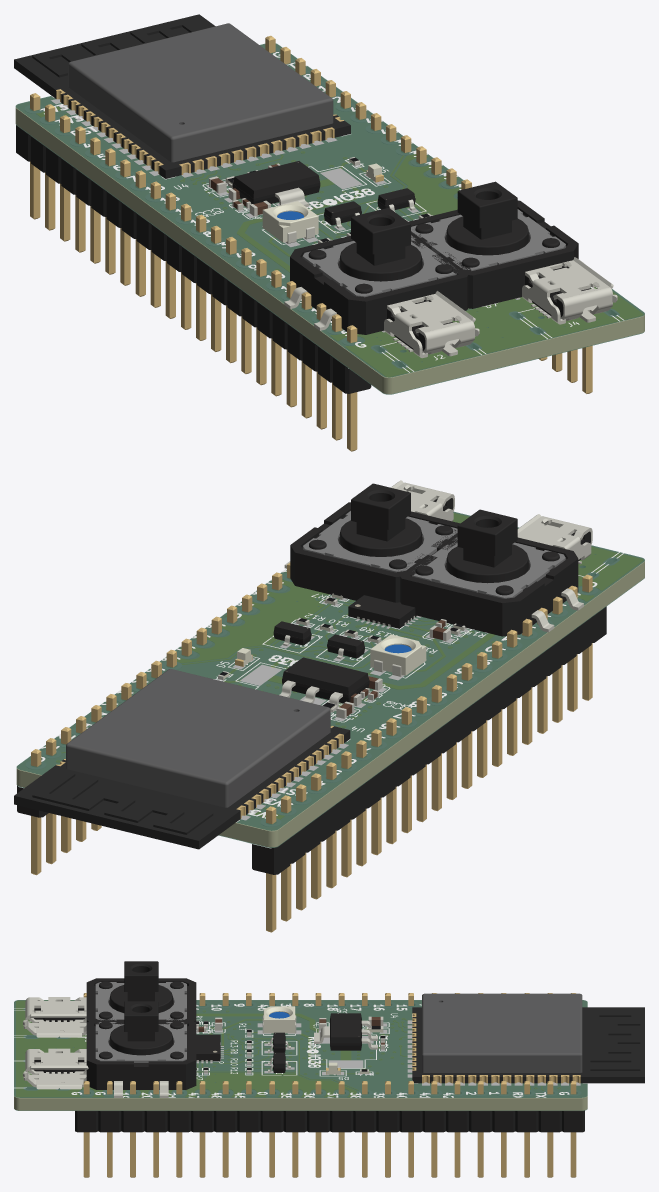
Rendered from esp32-s3-devkitc-1-v1.1.meshopt.glb.
3 renders of one model, top to bottom at view 1: azimuth 30°, elevation 25°; view 2: azimuth 150°, elevation 25°; view 3: azimuth 270°, elevation 25°, orthographic. The views are drawn at different scales.
Parts seen in each view (by area): view 1: U4, =>[0:1:1:37], J1, =>[0:1:1:39], SW1, SW2, =>[0:1:1:32], J4, J2, =>[0:1:1:33], J3, U2 (+5 smaller); view 2: U4, J1, =>[0:1:1:37], =>[0:1:1:39], SW1, SW2, =>[0:1:1:32], J3, =>[0:1:1:33], =>[0:1:1:35], U2, J2 (+5 smaller); view 3: =>[0:1:1:37], U4, J3, =>[0:1:1:39], SW2, SW1, =>[0:1:1:32], =>[0:1:1:35], =>[0:1:1:33], J4, J2, U2 (+6 smaller).
Boxes of the visible parts, left/top/right/bottom form: U4: left=14, top=14, right=350, bottom=178; =>[0:1:1:37]: left=15, top=43, right=644, bottom=377; J1: left=16, top=93, right=371, bottom=451; =>[0:1:1:39]: left=15, top=44, right=644, bottom=394; SW1: left=284, top=208, right=471, bottom=334; SW2: left=408, top=181, right=583, bottom=308; =>[0:1:1:32]: left=37, top=107, right=642, bottom=376; J4: left=522, top=257, right=617, bottom=324; J2: left=384, top=291, right=479, bottom=358; =>[0:1:1:33]: left=25, top=48, right=619, bottom=367; J3: left=265, top=35, right=592, bottom=393; U2: left=228, top=161, right=320, bottom=206; U4: left=14, top=669, right=350, bottom=849; J1: left=252, top=574, right=606, bottom=932; =>[0:1:1:37]: left=16, top=511, right=644, bottom=830; =>[0:1:1:39]: left=16, top=513, right=644, bottom=847; SW1: left=397, top=509, right=583, bottom=636; SW2: left=284, top=483, right=460, bottom=602; =>[0:1:1:32]: left=56, top=513, right=642, bottom=818; J3: left=17, top=562, right=290, bottom=875; =>[0:1:1:33]: left=26, top=557, right=619, bottom=826; =>[0:1:1:35]: left=41, top=552, right=624, bottom=822; U2: left=279, top=657, right=369, bottom=712; J2: left=517, top=514, right=592, bottom=564; =>[0:1:1:37]: left=14, top=1000, right=587, bottom=1097; U4: left=412, top=993, right=644, bottom=1083; J3: left=75, top=1081, right=584, bottom=1177; =>[0:1:1:39]: left=14, top=1001, right=587, bottom=1110; SW2: left=86, top=1001, right=196, bottom=1097; SW1: left=86, top=961, right=196, bottom=1026; =>[0:1:1:32]: left=16, top=1001, right=530, bottom=1096; =>[0:1:1:35]: left=14, top=1003, right=587, bottom=1097; =>[0:1:1:33]: left=24, top=1002, right=580, bottom=1095; J4: left=23, top=1048, right=88, bottom=1089; J2: left=23, top=997, right=86, bottom=1037; U2: left=314, top=1013, right=377, bottom=1050.
Bounding box in the file's own units: 0.0257 × 0.0175 × 0.0691.
